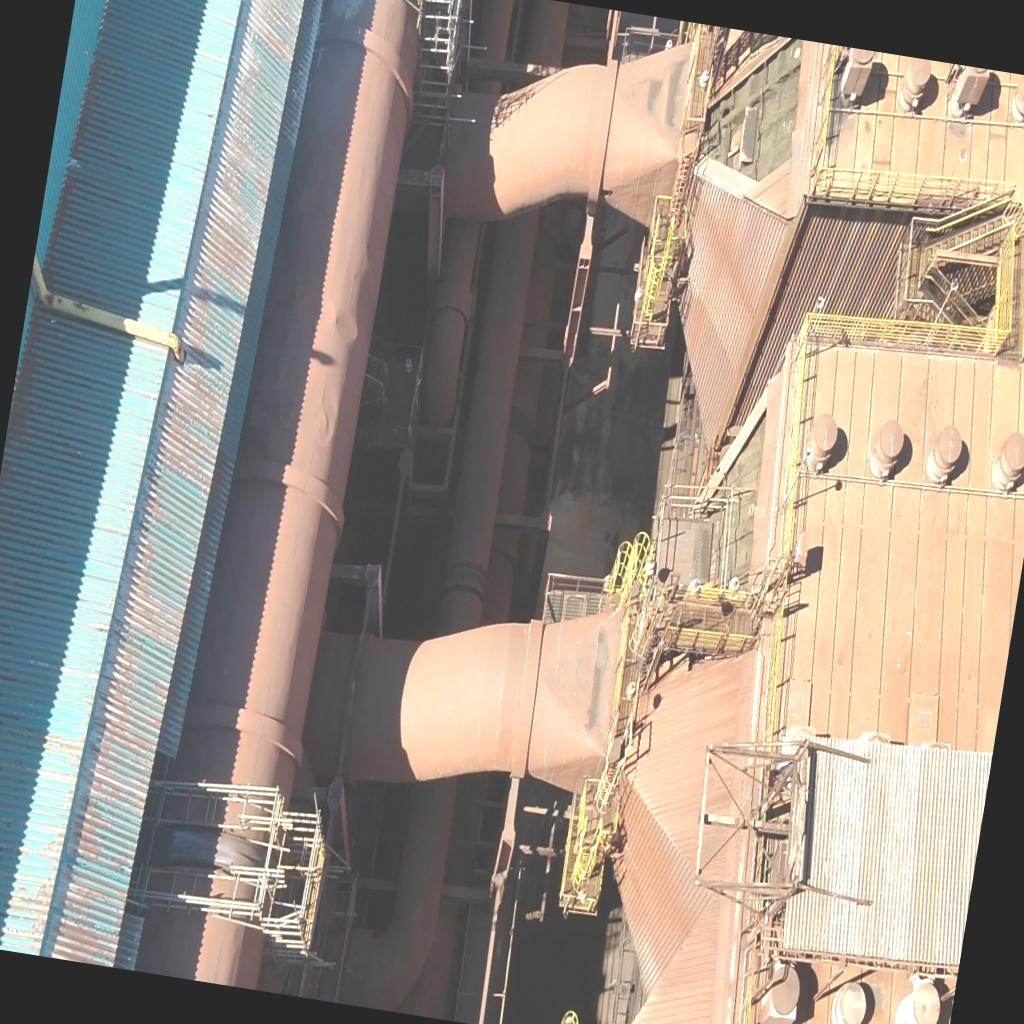Failures: (687, 424, 786, 608), (698, 34, 812, 180)
